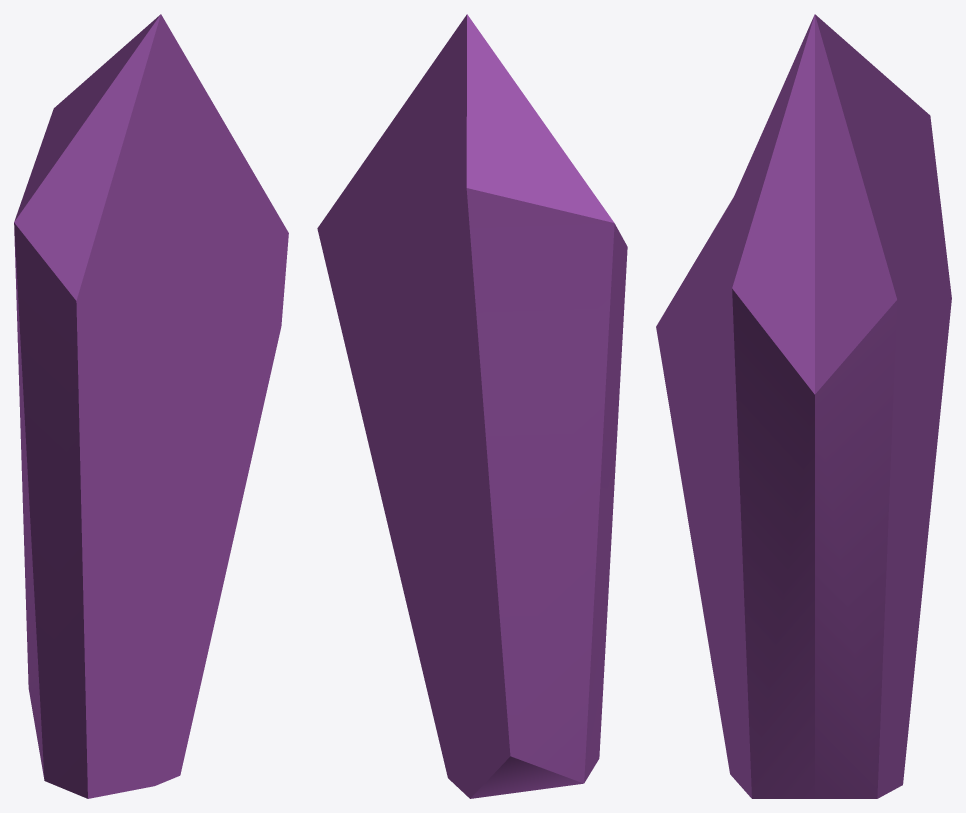
The model's file is Small_Crystal_2_LOD.fbx.
3 views of the same model, side by side, from view 1: azimuth 30°, elevation 25°; view 2: azimuth 150°, elevation 25°; view 3: azimuth 270°, elevation 25° (orthographic). The views are drawn at different scales.
Visible parts, largest first — view 1: pCube16; view 2: pCube16; view 3: pCube16.
Part boxes in pixels (x1,y1,x2,y2): pCube16: (14,14,288,798); pCube16: (317,14,627,798); pCube16: (656,14,951,798).
Bounding box in the file's own units: 2.7 × 7.12 × 2.4.
